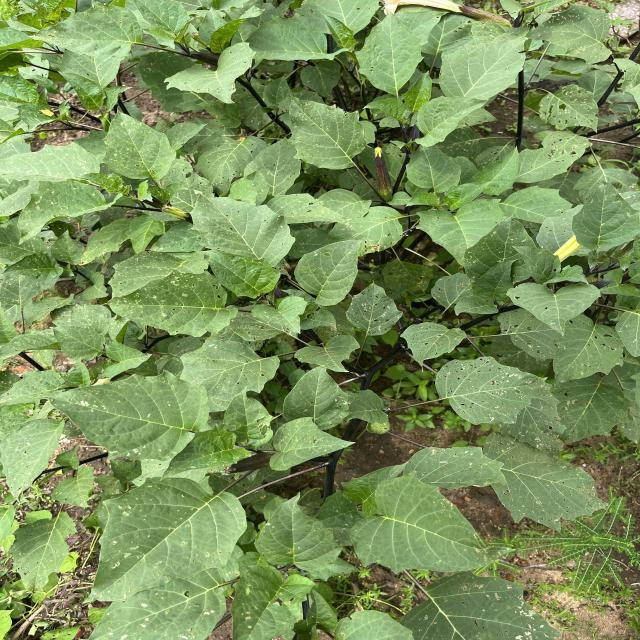Datura metal linn: (80, 475, 248, 605), (348, 470, 517, 576), (31, 368, 210, 463), (103, 268, 239, 338), (434, 356, 550, 428), (24, 0, 144, 64), (252, 490, 344, 573), (15, 178, 124, 245), (353, 9, 426, 98), (286, 91, 368, 170), (162, 40, 258, 106), (437, 35, 530, 101), (101, 107, 178, 182), (159, 423, 253, 482), (505, 282, 602, 338), (570, 177, 640, 252), (268, 415, 358, 472), (293, 238, 368, 306), (194, 248, 282, 299), (414, 95, 490, 148), (398, 320, 468, 374), (293, 334, 361, 374), (470, 143, 520, 197), (48, 324, 106, 362), (441, 180, 491, 212)
